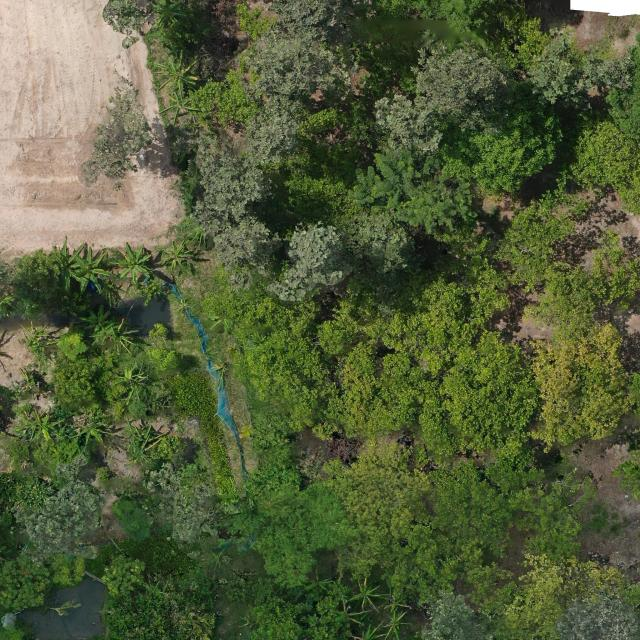Tree: (89, 0, 640, 217), (198, 293, 340, 437), (526, 320, 640, 456), (444, 76, 565, 196), (374, 44, 508, 152), (440, 330, 552, 459), (522, 225, 640, 342), (242, 478, 360, 589), (494, 178, 596, 298), (319, 436, 436, 538), (284, 102, 378, 215), (351, 149, 477, 233), (11, 452, 104, 564), (77, 65, 158, 191), (566, 89, 640, 215), (188, 132, 280, 224), (235, 28, 353, 96), (526, 34, 636, 104), (274, 219, 353, 303), (209, 214, 285, 291), (245, 92, 312, 170), (335, 213, 417, 274), (190, 69, 263, 128), (270, 0, 350, 42), (0, 552, 51, 614), (50, 357, 107, 408), (155, 39, 201, 102), (118, 413, 168, 467), (47, 235, 90, 289), (101, 0, 148, 49), (102, 554, 147, 597), (66, 408, 114, 447), (111, 242, 151, 286), (158, 86, 202, 126), (15, 406, 65, 441), (111, 362, 151, 405), (153, 238, 194, 277), (102, 317, 142, 353), (74, 250, 109, 290), (346, 577, 384, 613), (78, 304, 114, 336), (152, 0, 188, 30), (382, 609, 412, 640), (19, 321, 53, 346), (306, 568, 334, 594)
